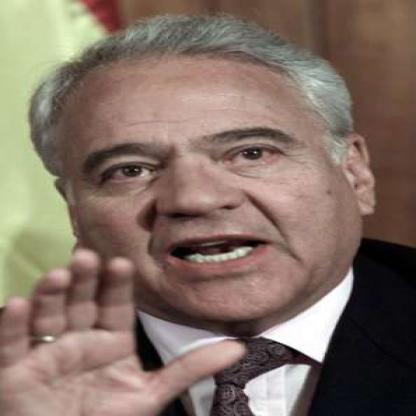face: (60, 26, 352, 325)
